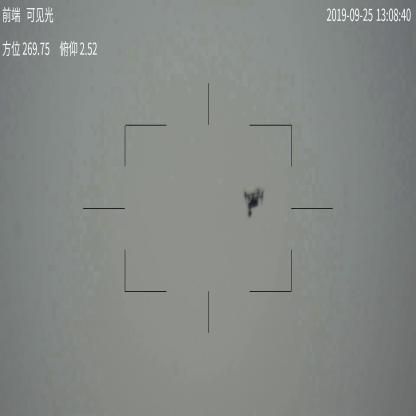uav: (241, 187, 266, 216)
